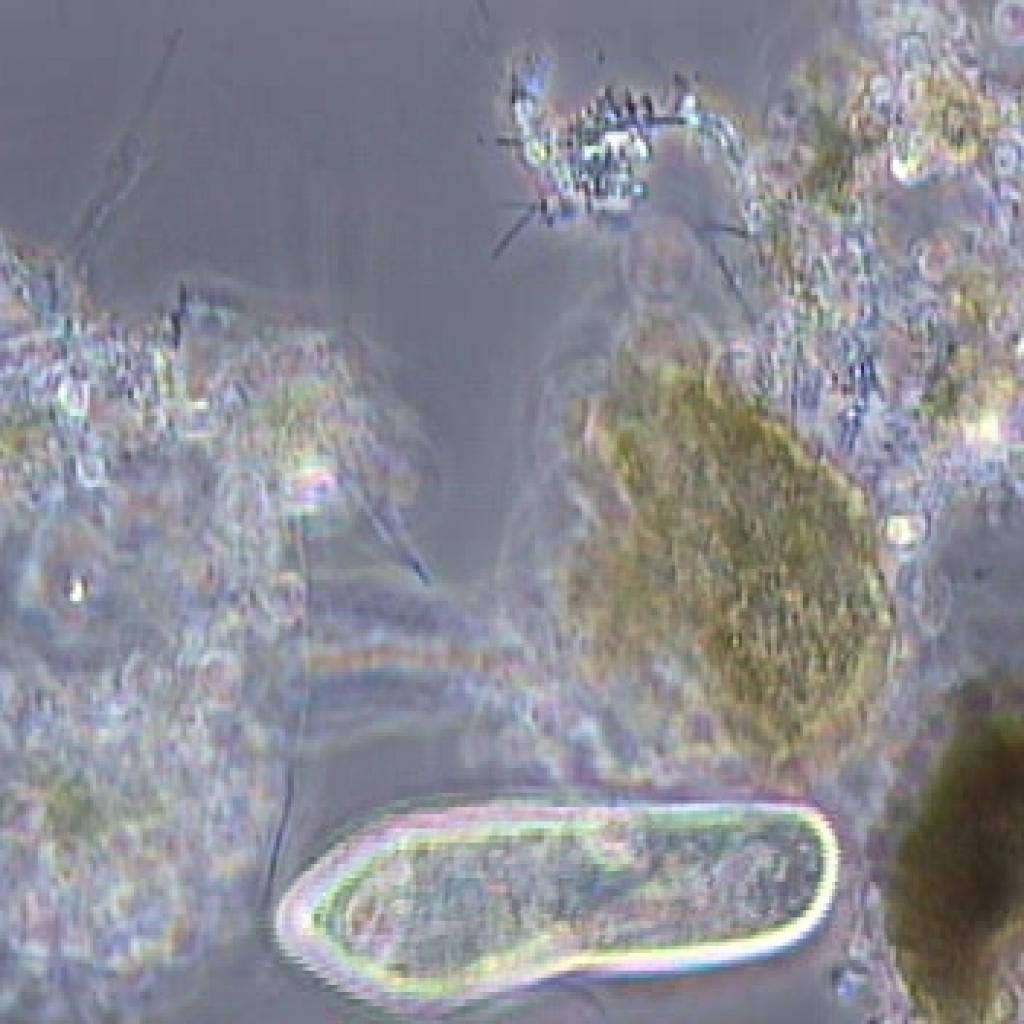Paramecium: (238, 768, 844, 999)
